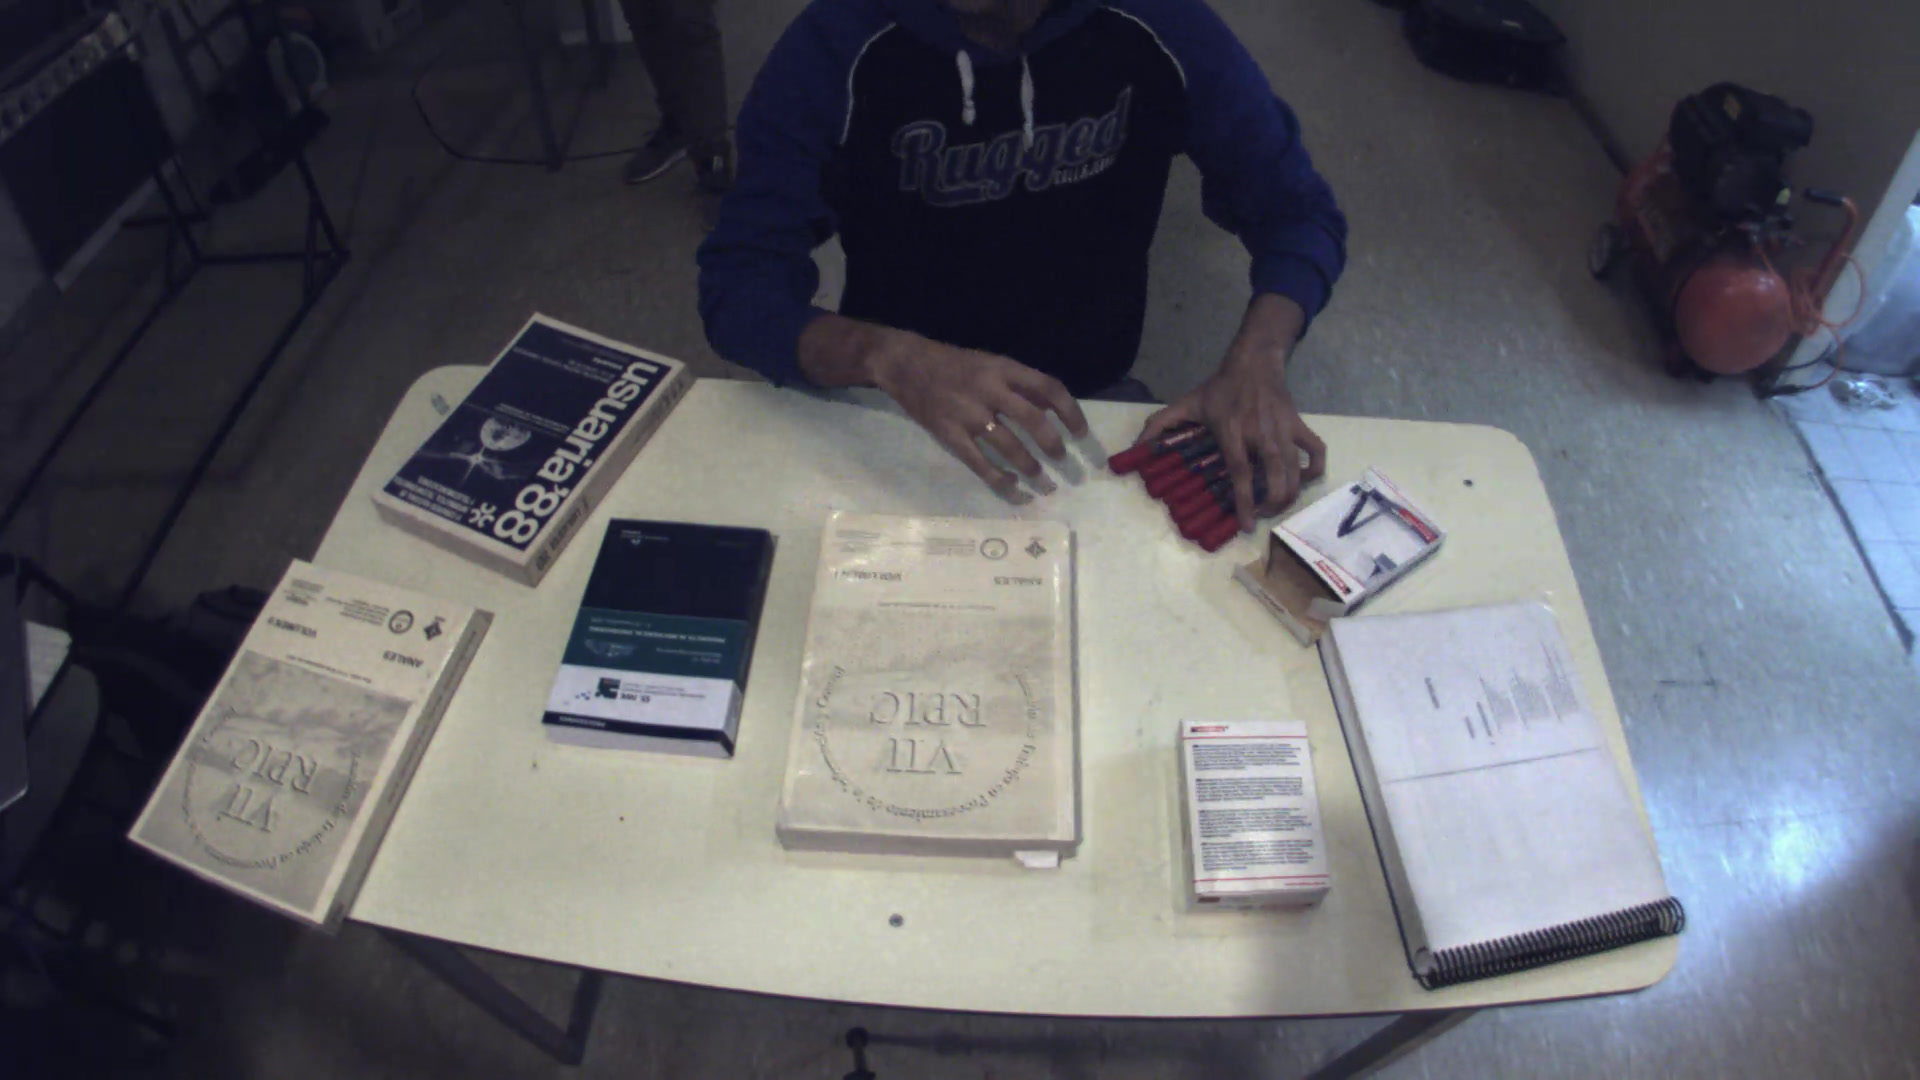hand: (1106, 338, 1336, 551), (861, 320, 1110, 501)
